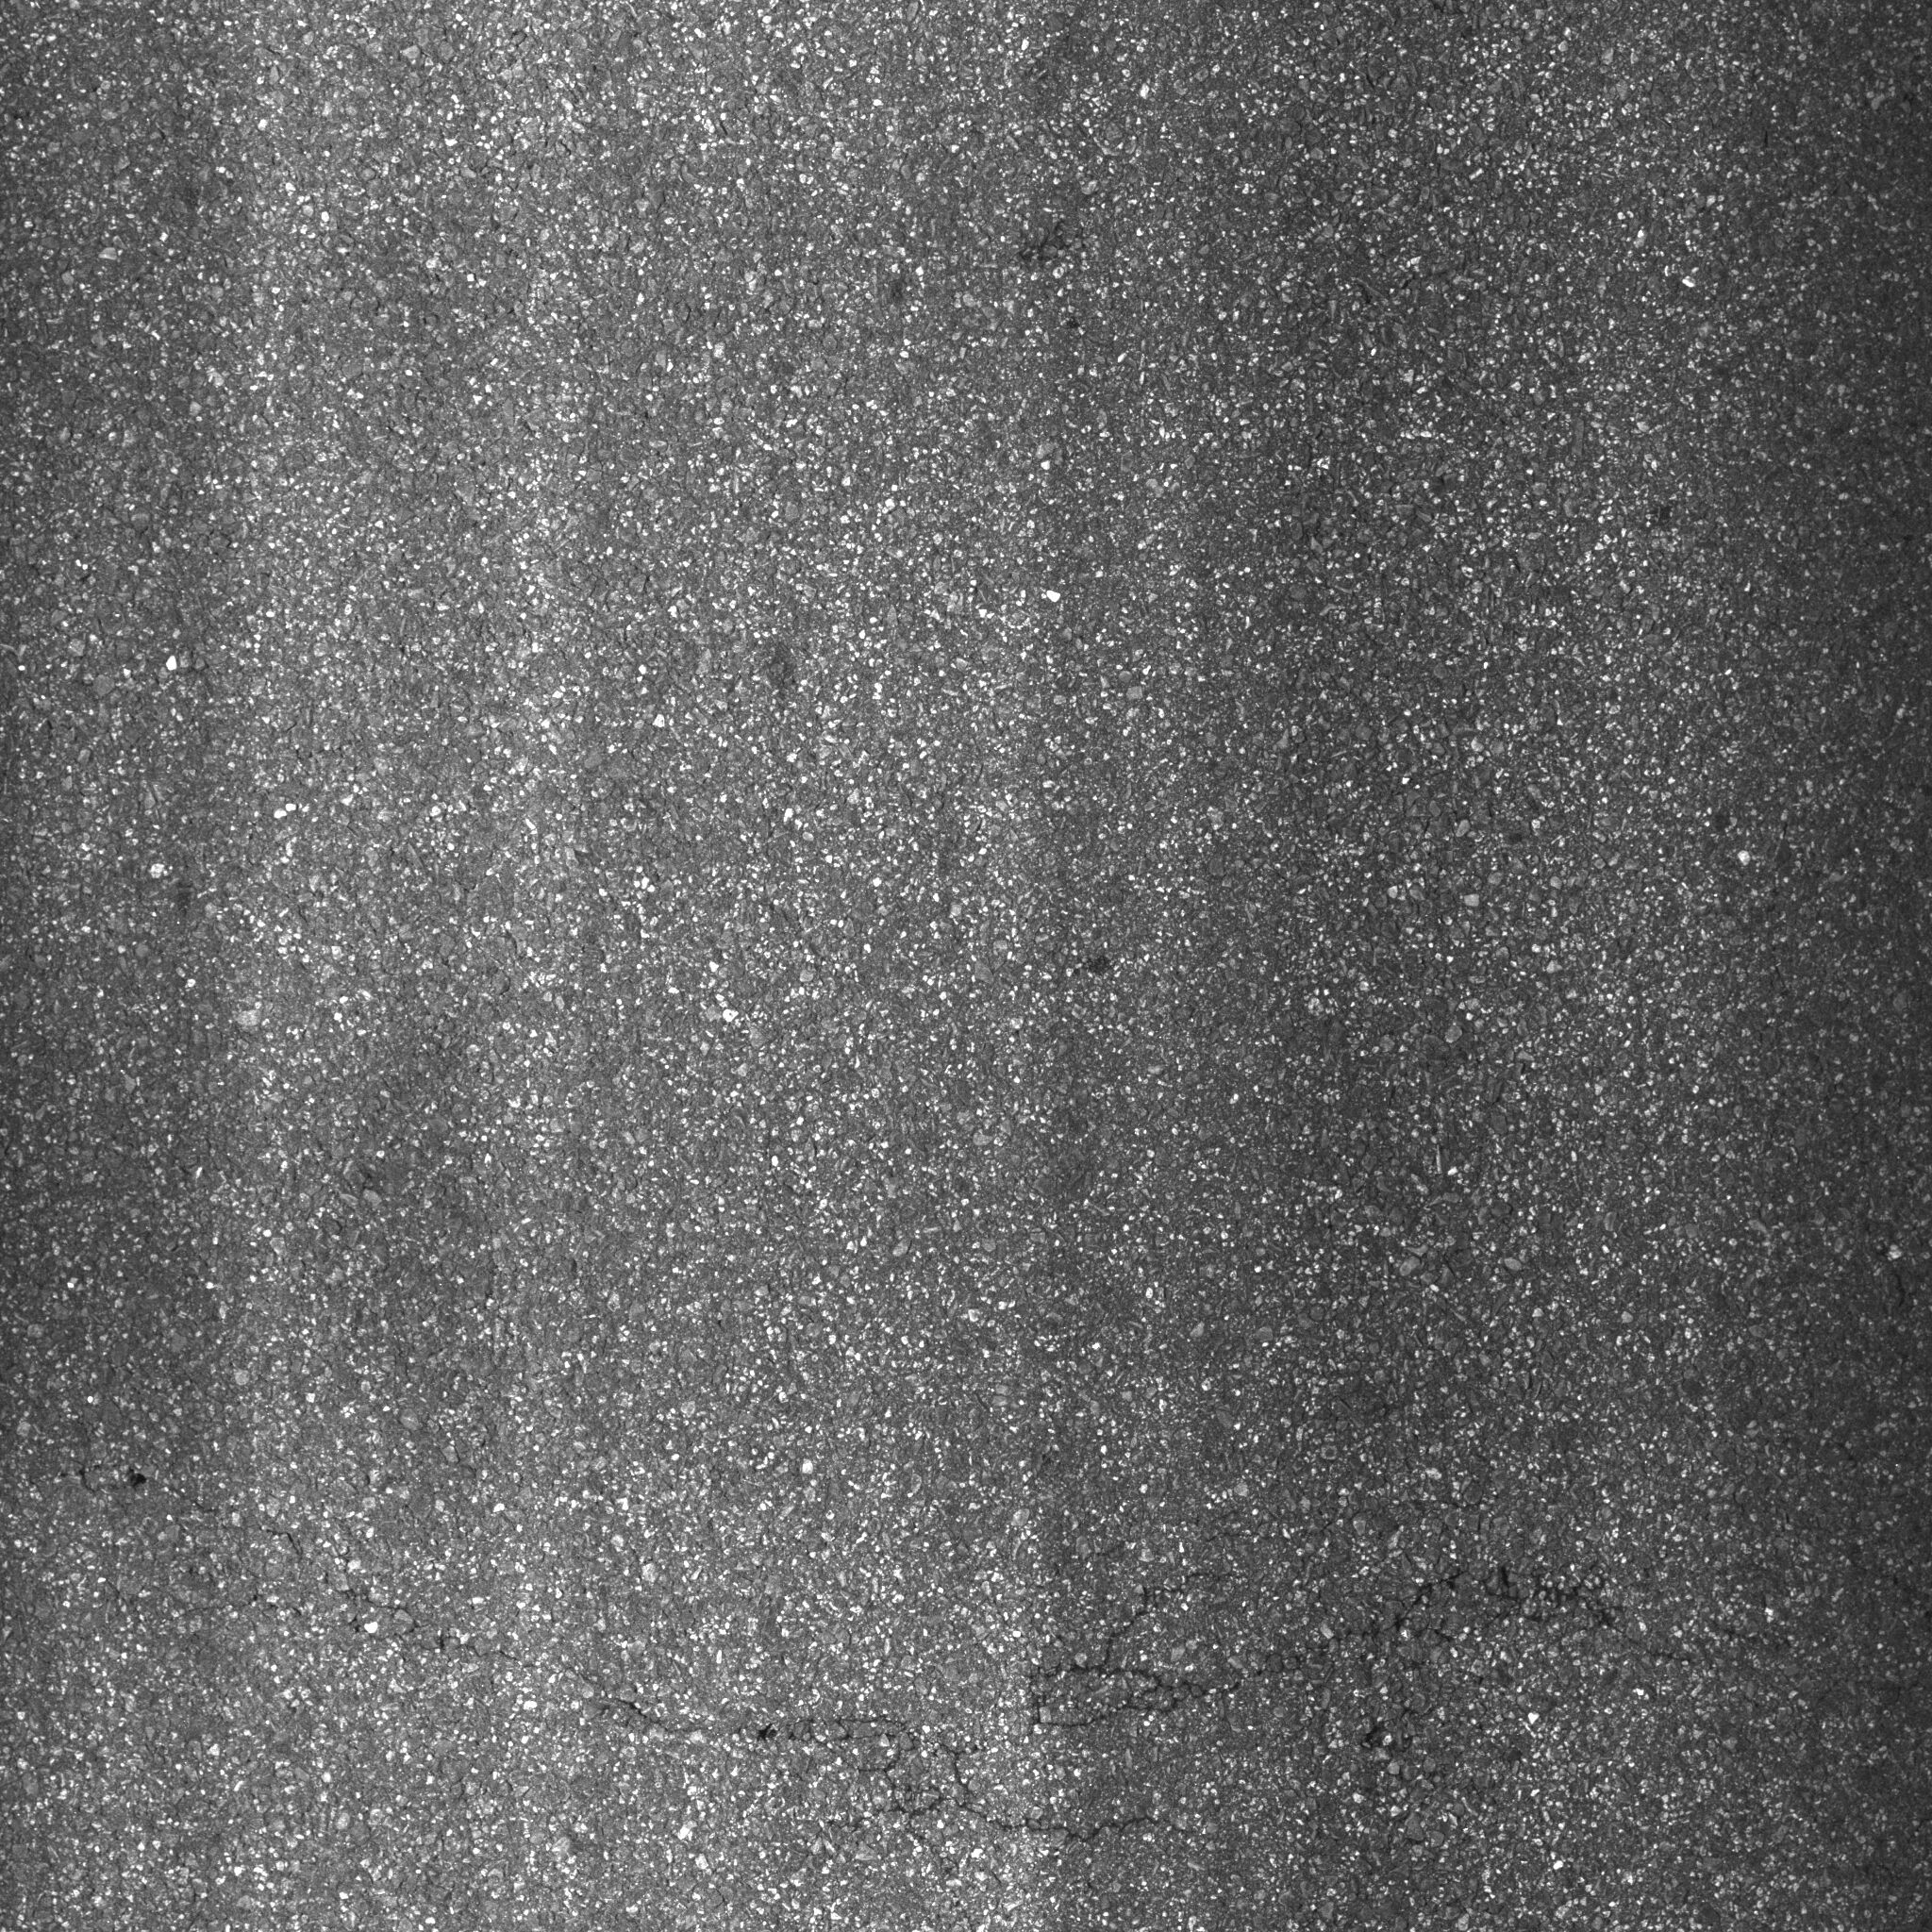transeverse: (85, 1460, 1704, 1845)
